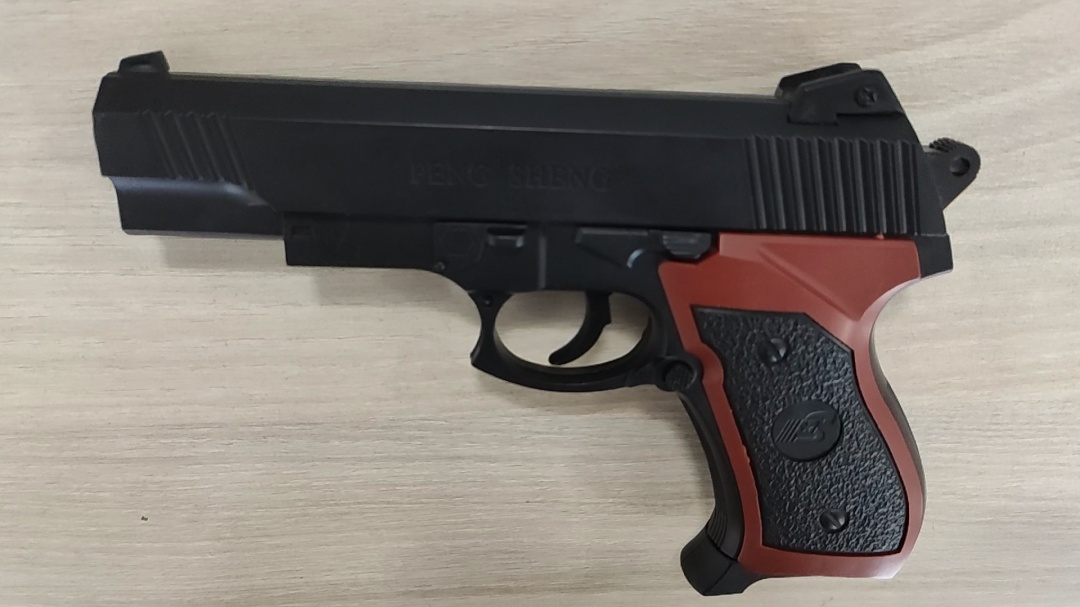gun: (419, 266, 517, 344)
